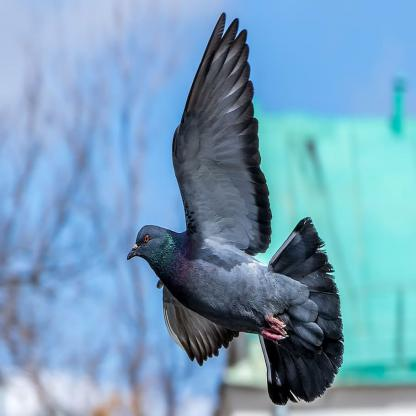Rock Pigeon: (125, 45, 333, 401)
